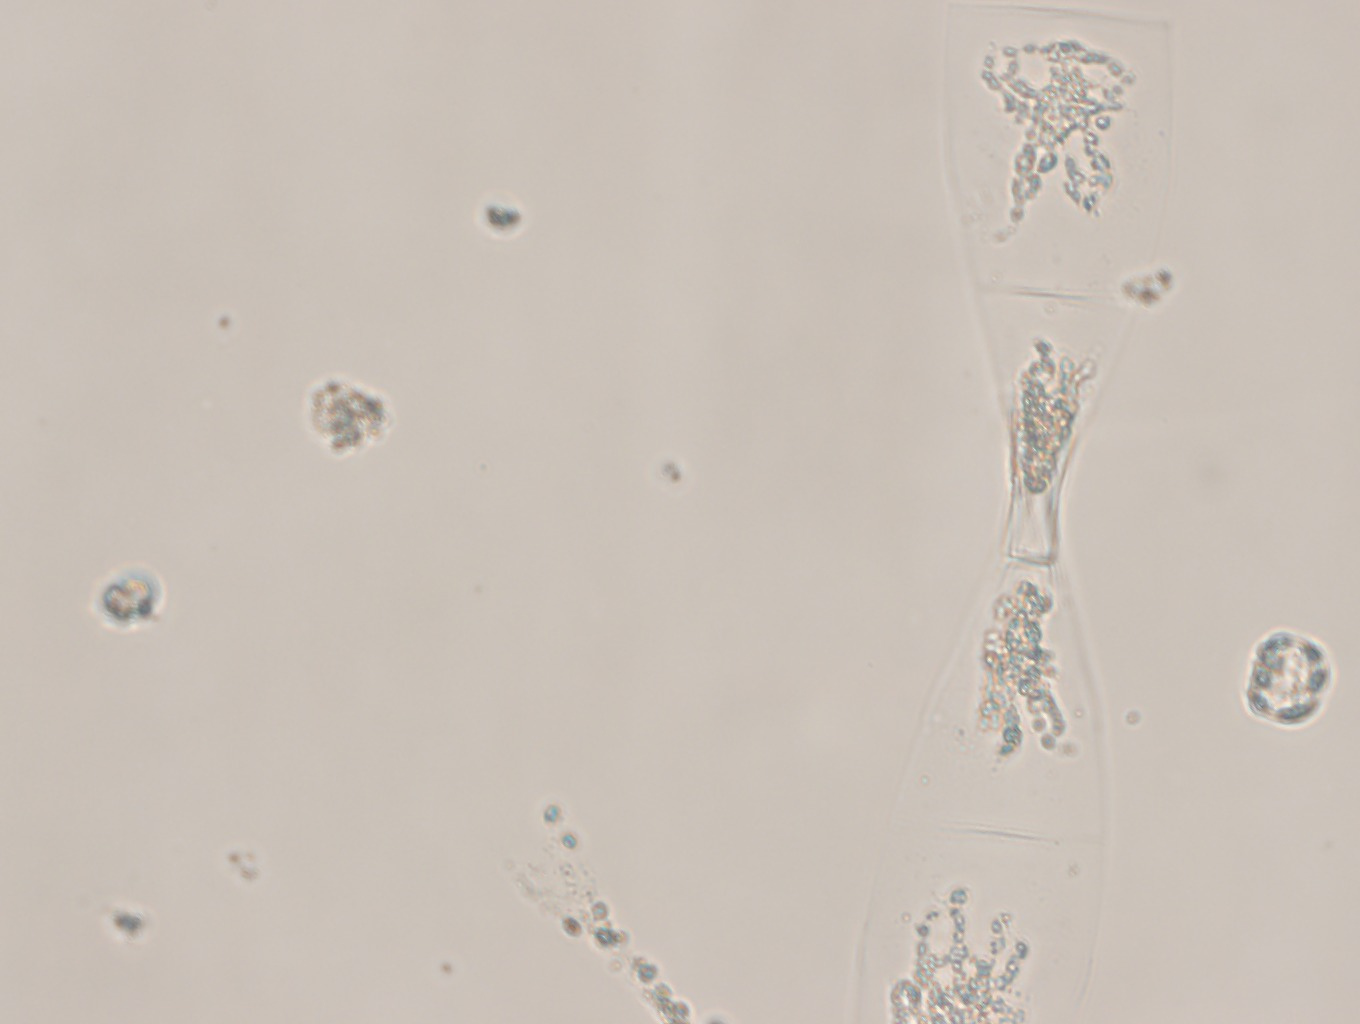helicotheca: (851, 1, 1176, 1024)
